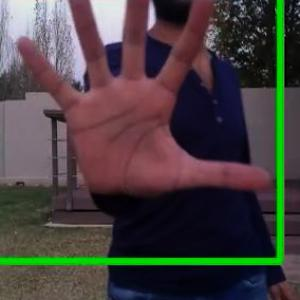follow_hand: (10, 0, 274, 207)
